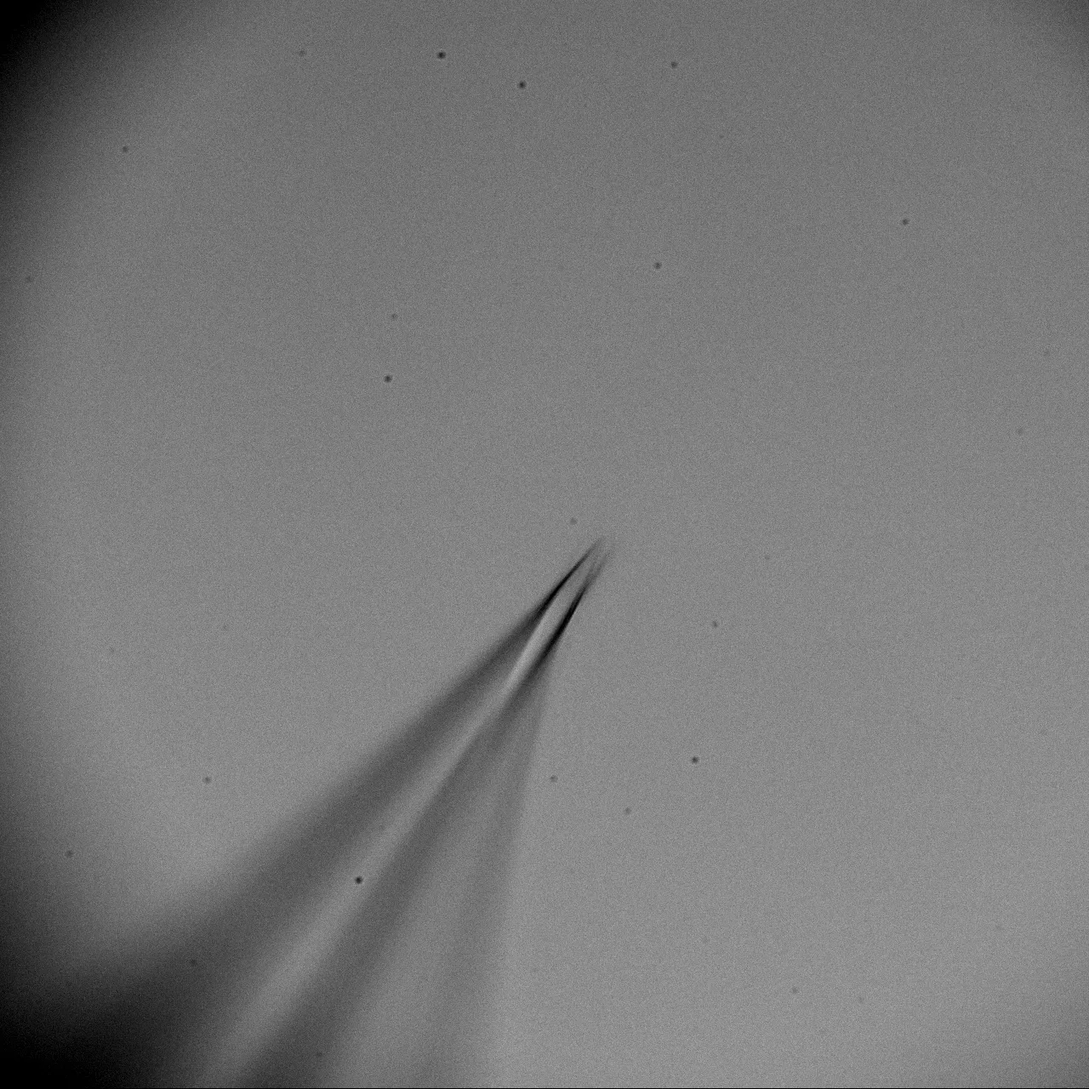tip: (481, 525, 624, 711)
